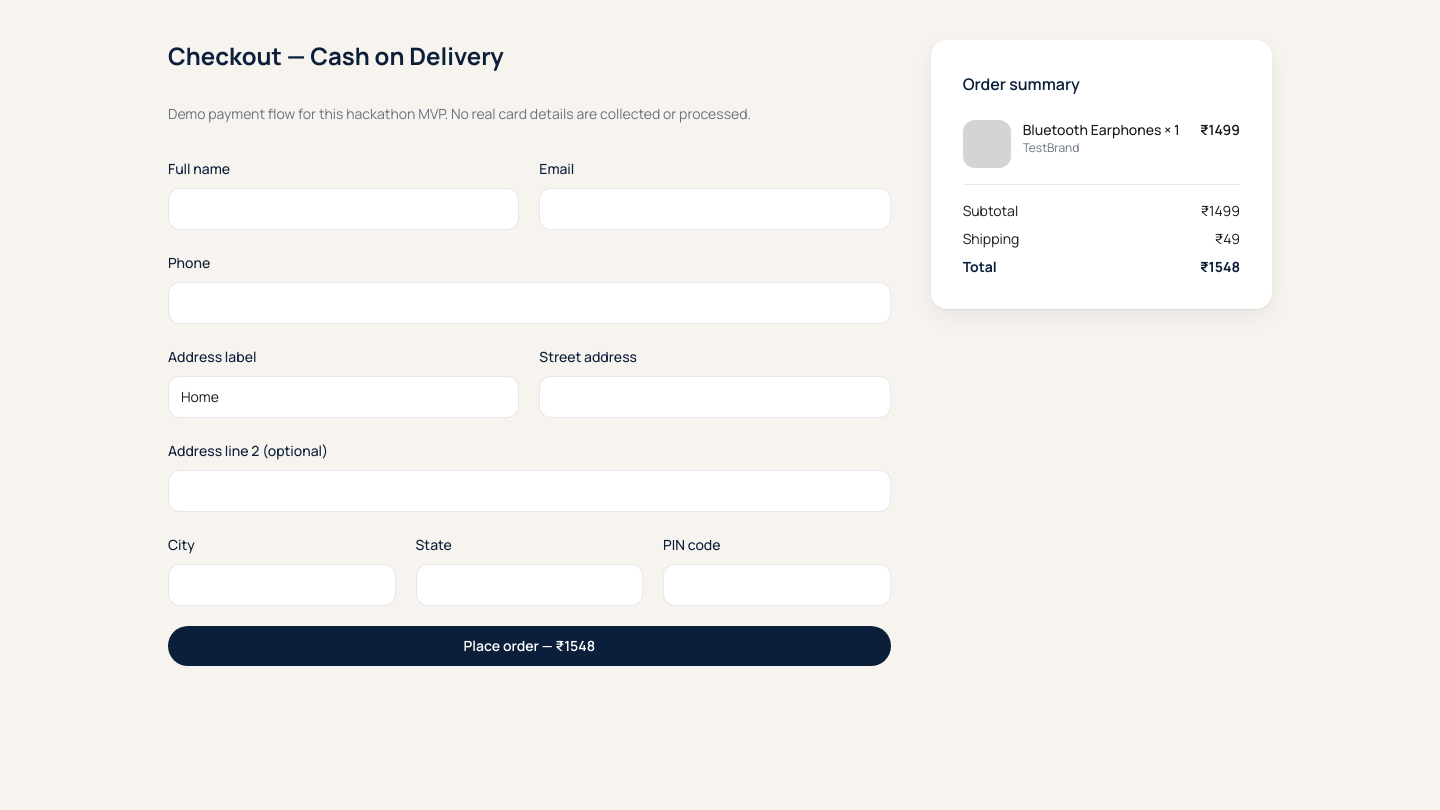
Test: CheckoutPage › shows validation errors on empty submit
This screenshot has width=1440, height=810.
Expected: the heading "Order summary" is shown, [963,73,1080,95]
Click the button "Place order — ₹1548": (529, 646) [168,626,891,666]
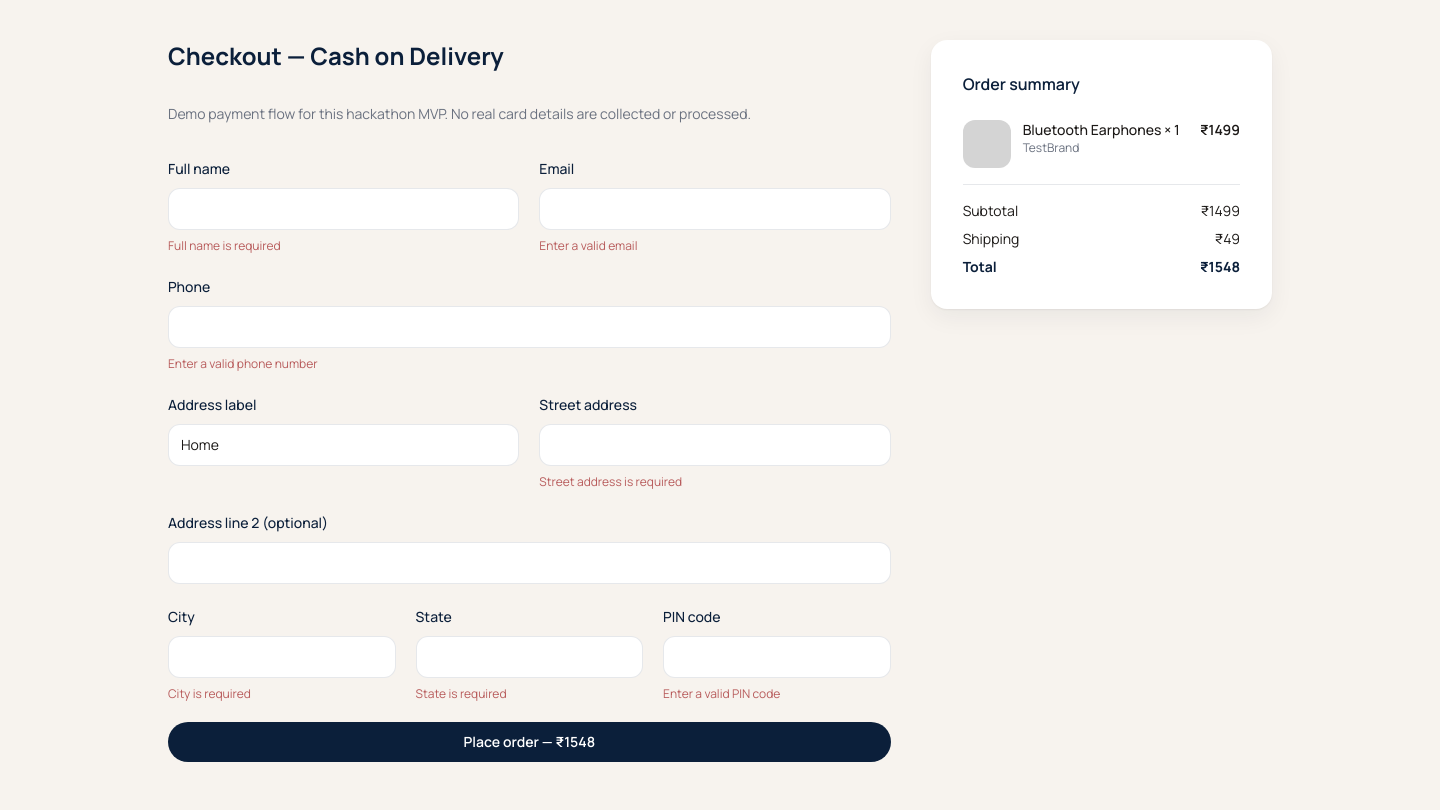
Result: the text "Full name is required" is shown at [168,237,281,254]
